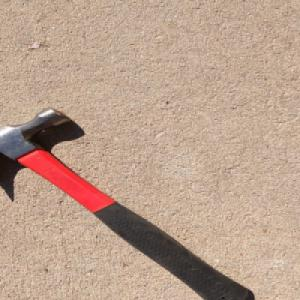Hammer: (0, 106, 255, 300)
